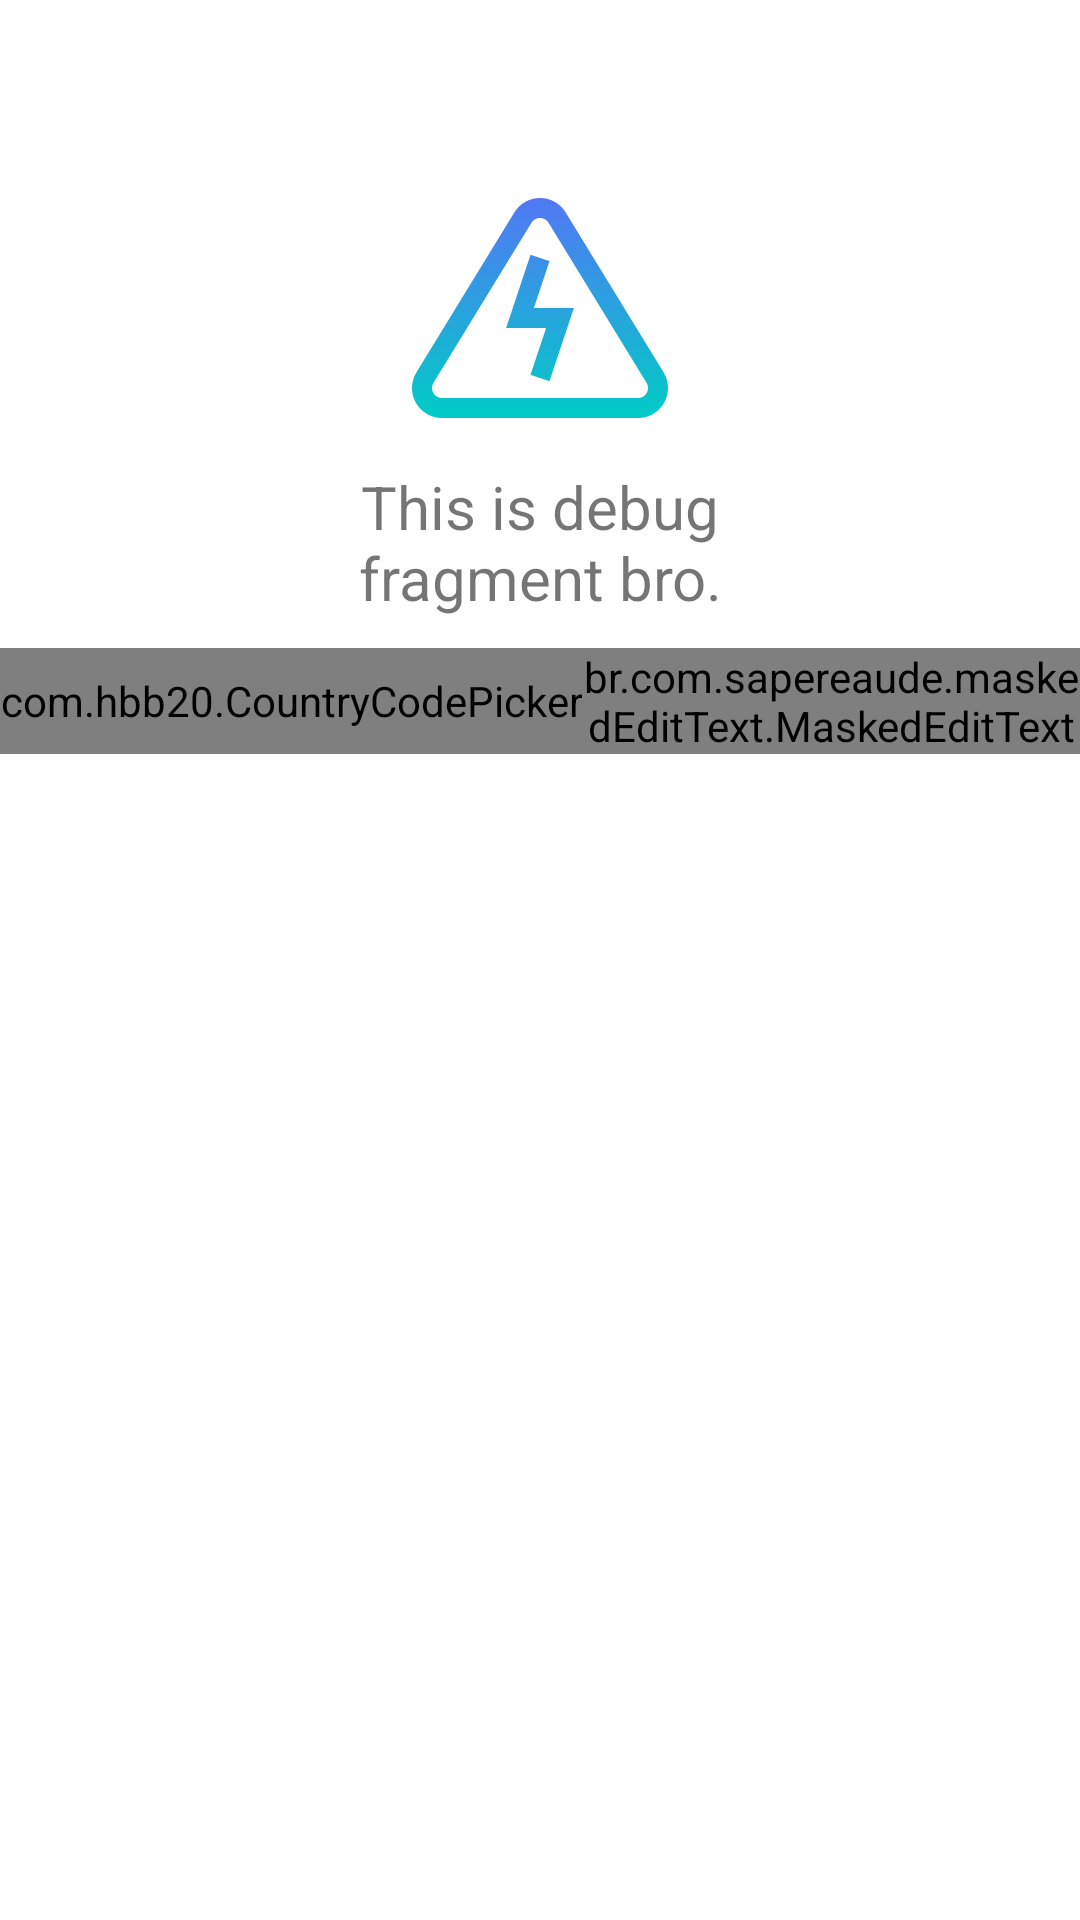

Screen size 1080×1920. Icon name, then its center in pixels as (x=x, y=y):
warning: (x=540, y=308)
